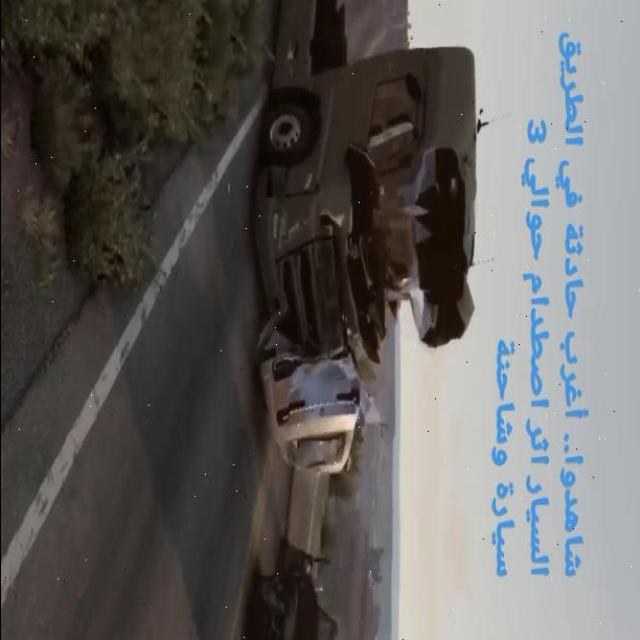accident: (248, 0, 473, 504)
